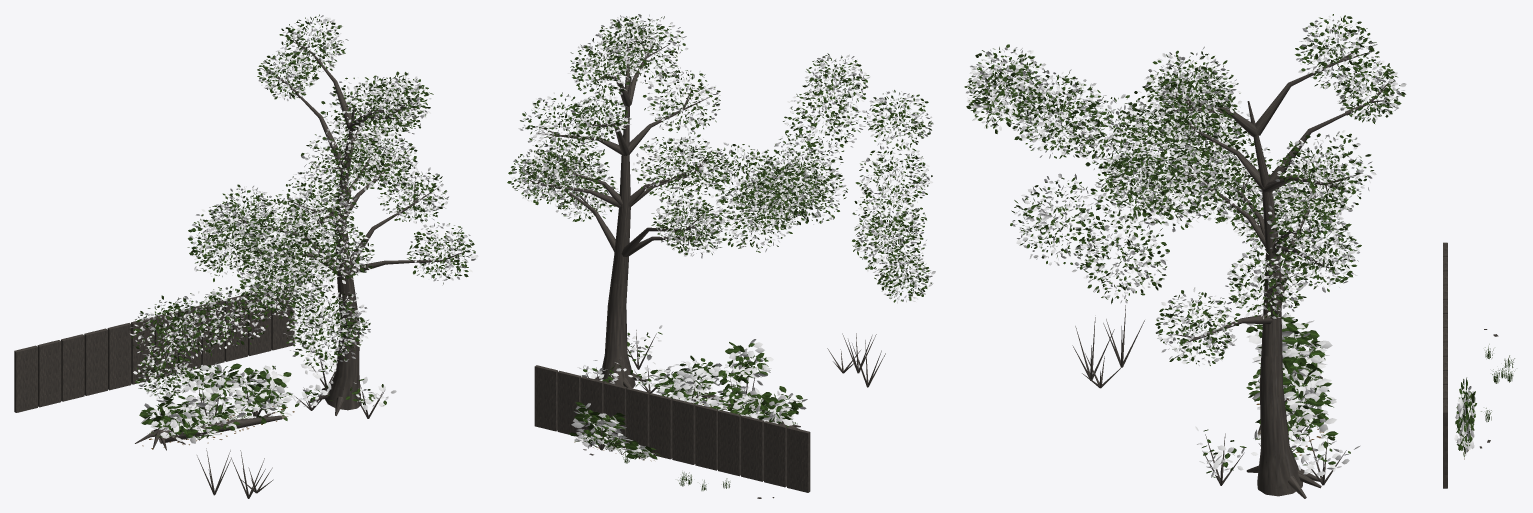
Rendered from SM_Env_Tile_m1_p2.fbx.
The picture shows the model from 3 angles, left to right: view 1: azimuth 30°, elevation 25°; view 2: azimuth 150°, elevation 25°; view 3: azimuth 270°, elevation 25°; orthographic projection. The views are drawn at different scales.
Parts seen in each view (by area): view 1: SM_Env_Tile_m1_p2; view 2: SM_Env_Tile_m1_p2; view 3: SM_Env_Tile_m1_p2.
Boxes of the visible parts, x1,y1,x2,y2 form: SM_Env_Tile_m1_p2: [14, 14, 478, 498]; SM_Env_Tile_m1_p2: [507, 14, 935, 498]; SM_Env_Tile_m1_p2: [964, 14, 1514, 498].
Size of what is drawn, in the model's own units: 1550 by 1647 by 1527.
Materials: 8 (3 with a texture image).
